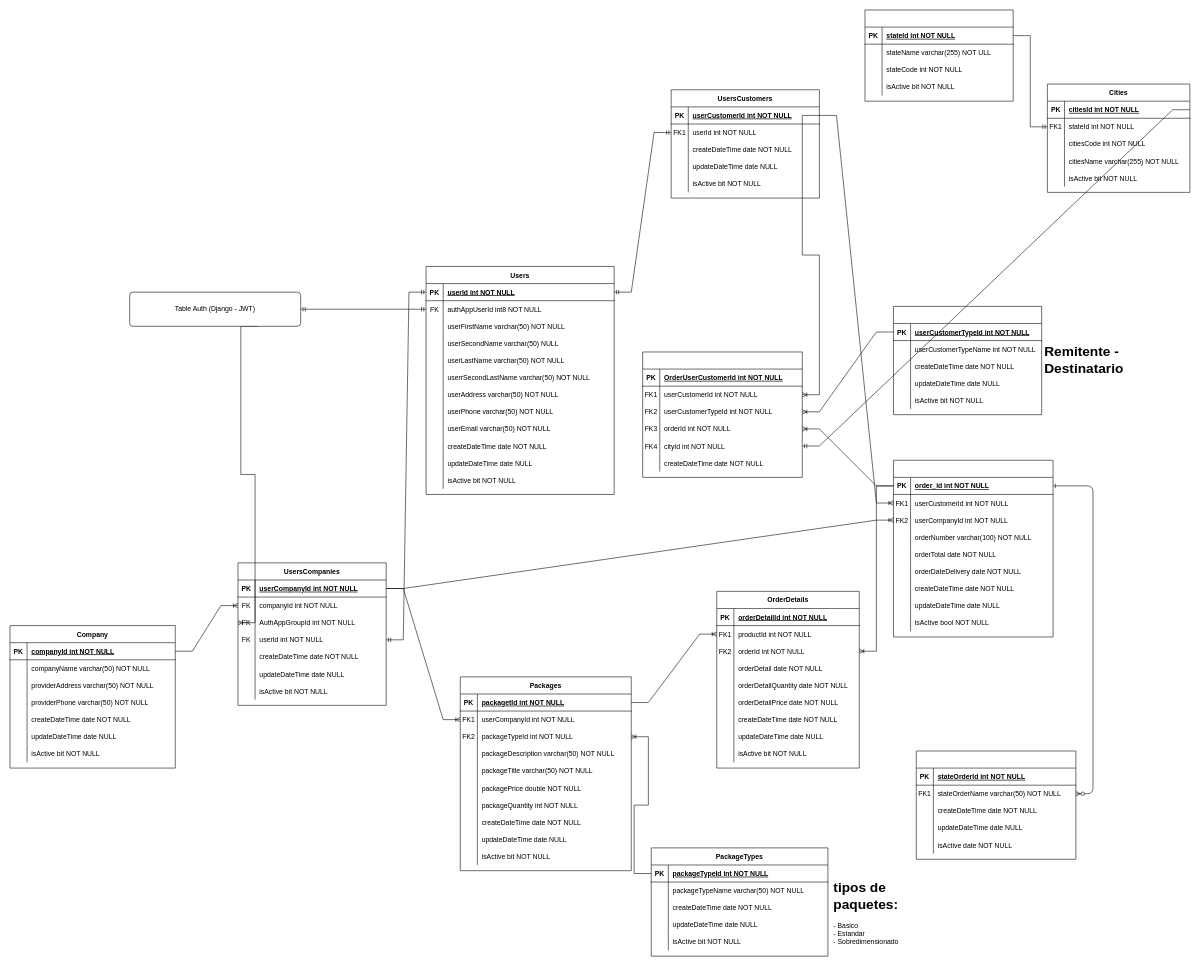
Image size: 1204x966. Some labels were removed from this diagram. The shapes that lost their labels are listed below. From the top down, each one's box as (x1, y1, x2, y2) in pixels, then its label:
(864, 9, 1013, 101): States
(893, 306, 1042, 415): UsersCustomersType
(642, 351, 802, 477): OrderUserCustomers
(893, 460, 1053, 637): Orders
(916, 750, 1076, 859): StatesOrders
